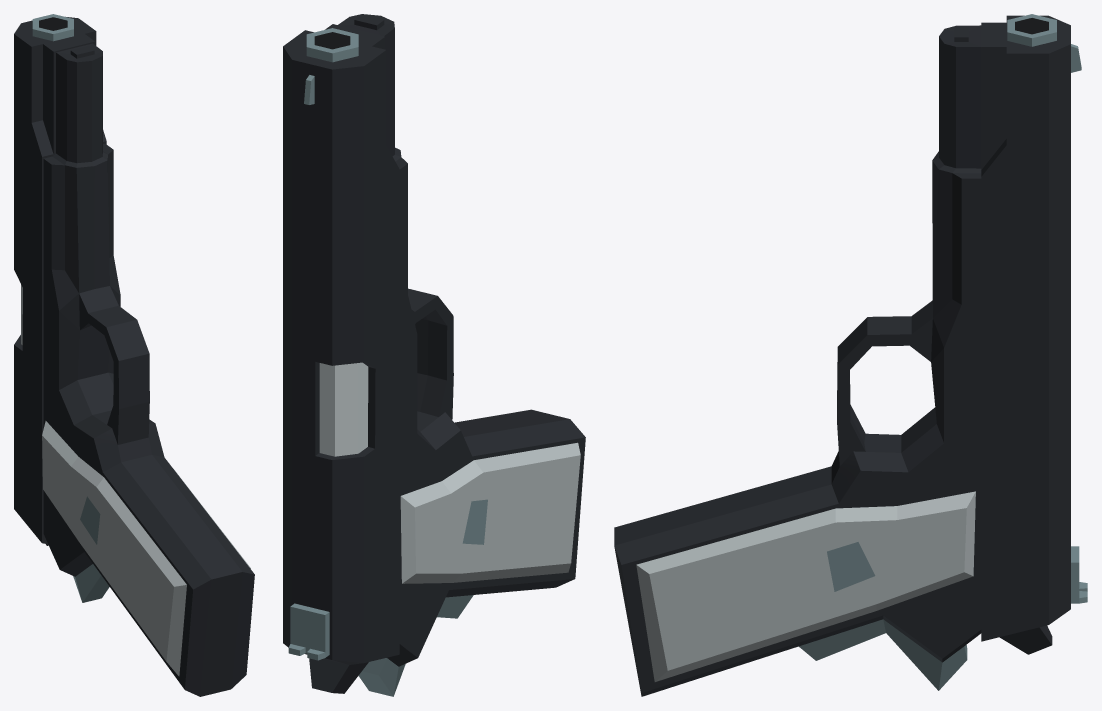
Rendered from Pistol.fbx.
The picture shows the model from 3 angles, left to right: view 1: azimuth 30°, elevation 25°; view 2: azimuth 150°, elevation 25°; view 3: azimuth 270°, elevation 25°; orthographic projection. The views are drawn at different scales.
Visible parts, largest first — view 1: SM_Wep_Pistol_Gold_Slide_01; view 2: SM_Wep_Pistol_Gold_Slide_01; view 3: SM_Wep_Pistol_Gold_Slide_01.
Boxes of the visible parts, x1,y1,x2,y2 form: SM_Wep_Pistol_Gold_Slide_01: [14, 14, 254, 696]; SM_Wep_Pistol_Gold_Slide_01: [283, 14, 585, 696]; SM_Wep_Pistol_Gold_Slide_01: [614, 14, 1087, 696].
Size of the model in its own units: 429 by 2935 by 1904.
